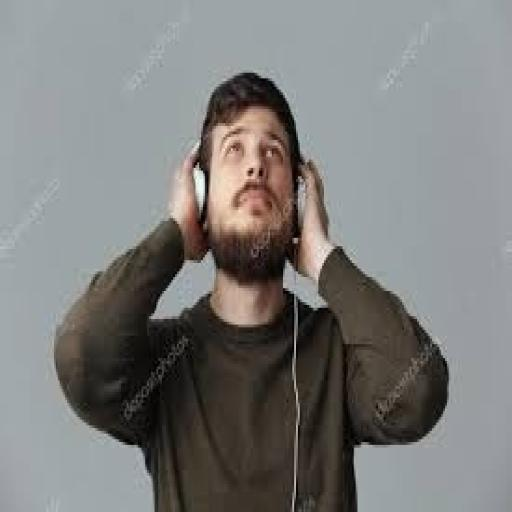listening_to_music: (50, 67, 452, 509)
